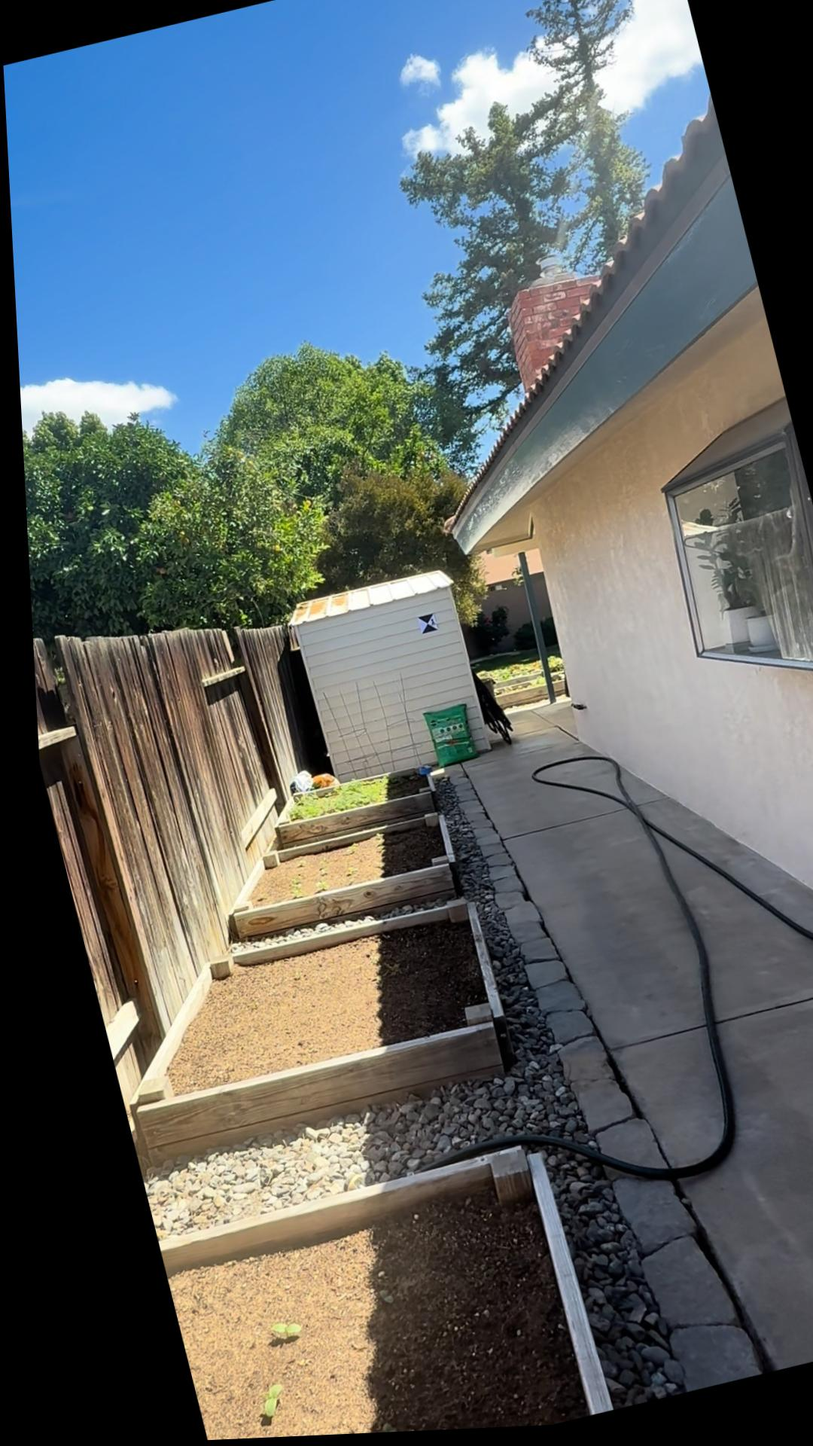target1: (415, 610, 440, 637)
